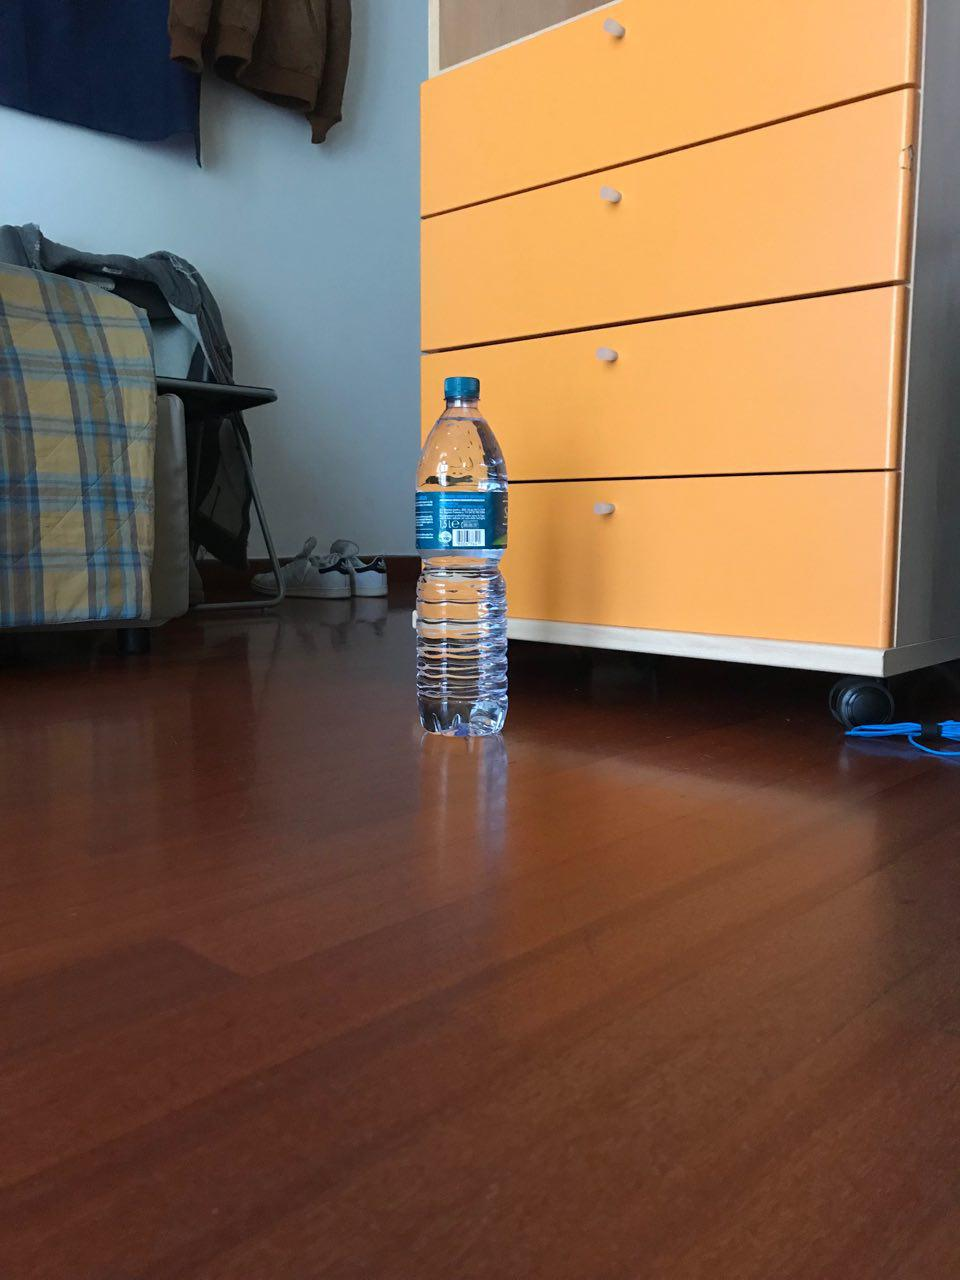san_bernardo: (413, 375, 510, 740)
